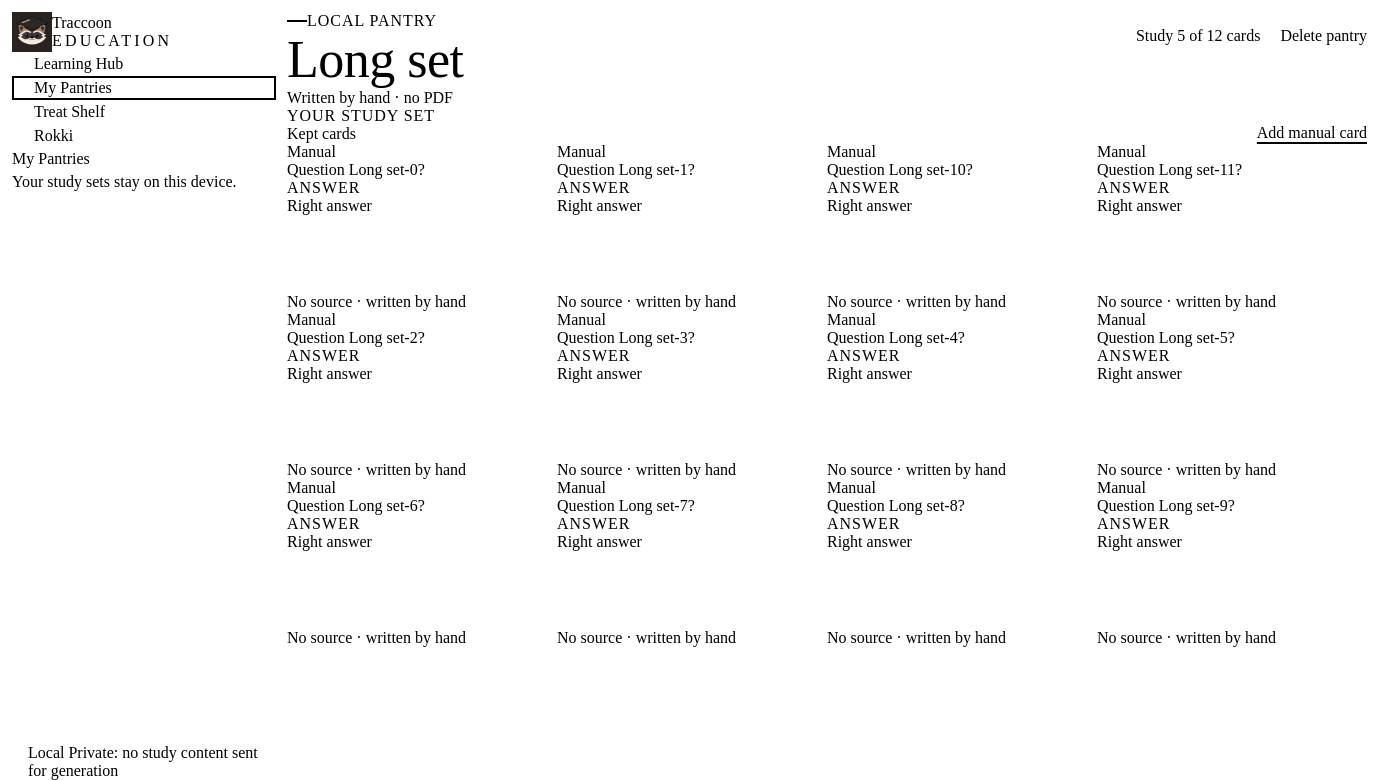
Test case: Learning Hub practice › labels the pantry shortcut with the round size when a pantry has more than five cards
This screenshot has width=1378, height=780.
Click the button "Study 5 of 12 cards" at (1198, 36), box [1136, 12, 1260, 60]
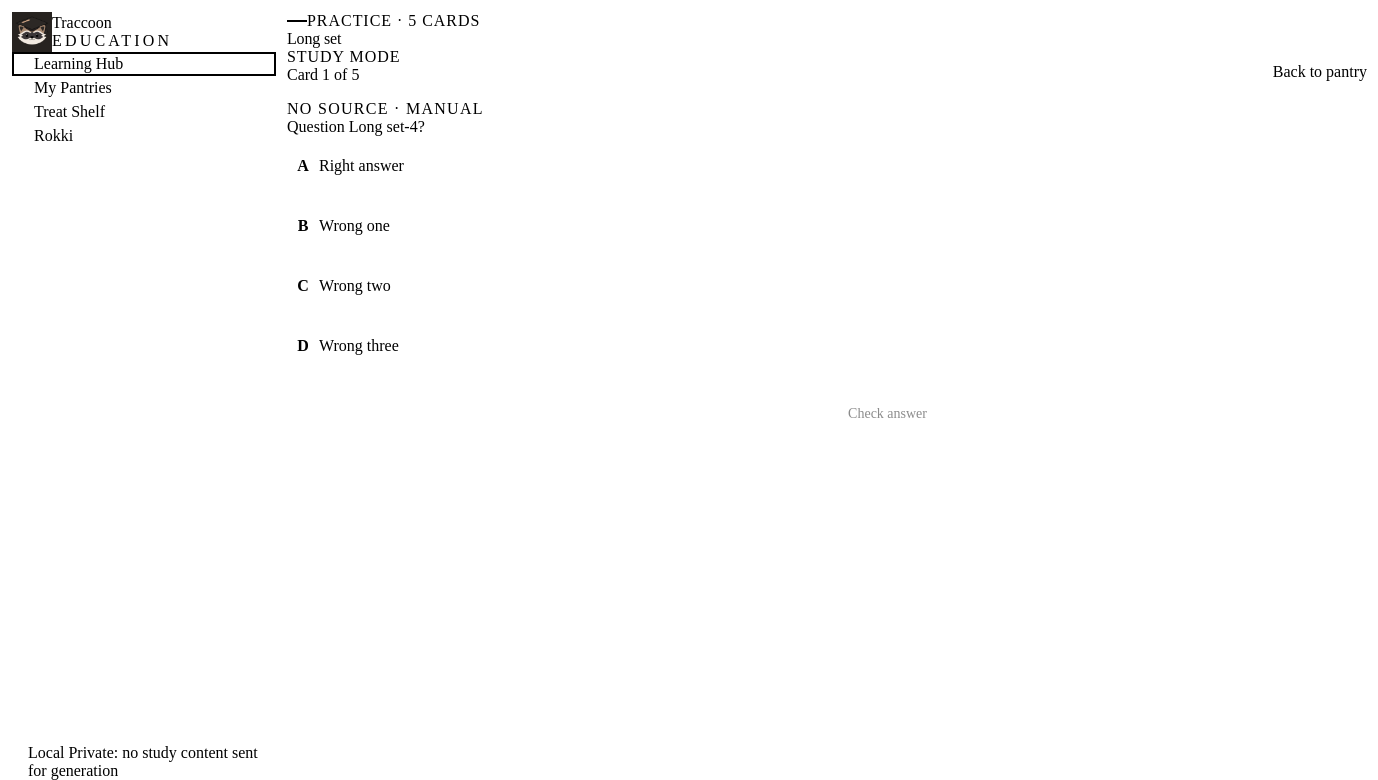
Expected: the button "Back to pantry" is shown, [1253, 48, 1367, 96]
